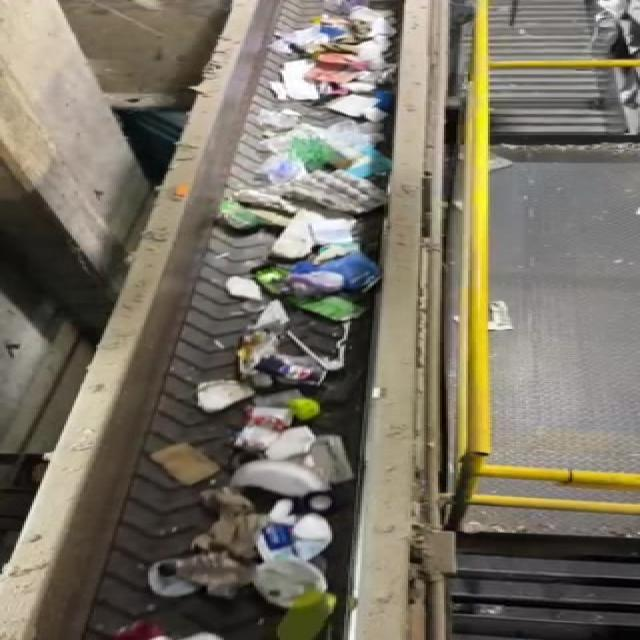paper: (165, 488, 264, 600), (188, 370, 255, 428), (132, 443, 220, 486)
pp: (247, 501, 347, 570), (228, 454, 344, 506), (230, 394, 288, 448)
